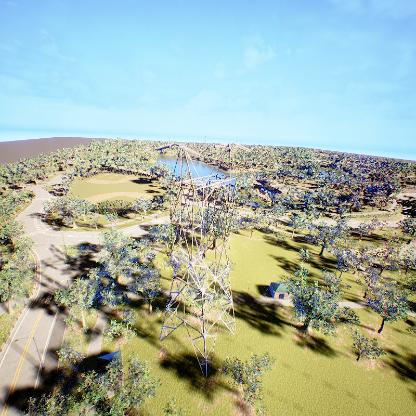tower: (154, 144, 252, 380)
